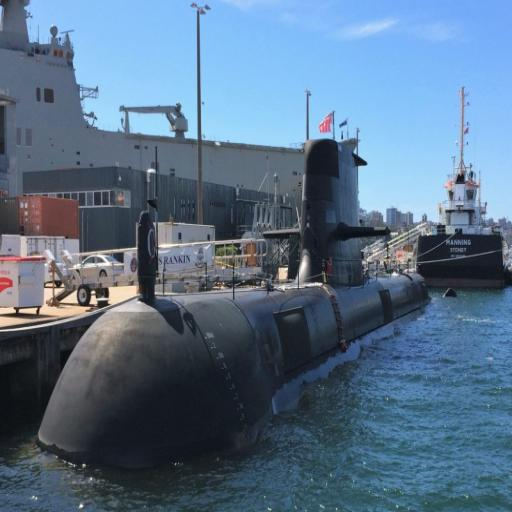submarine: (30, 131, 435, 461)
